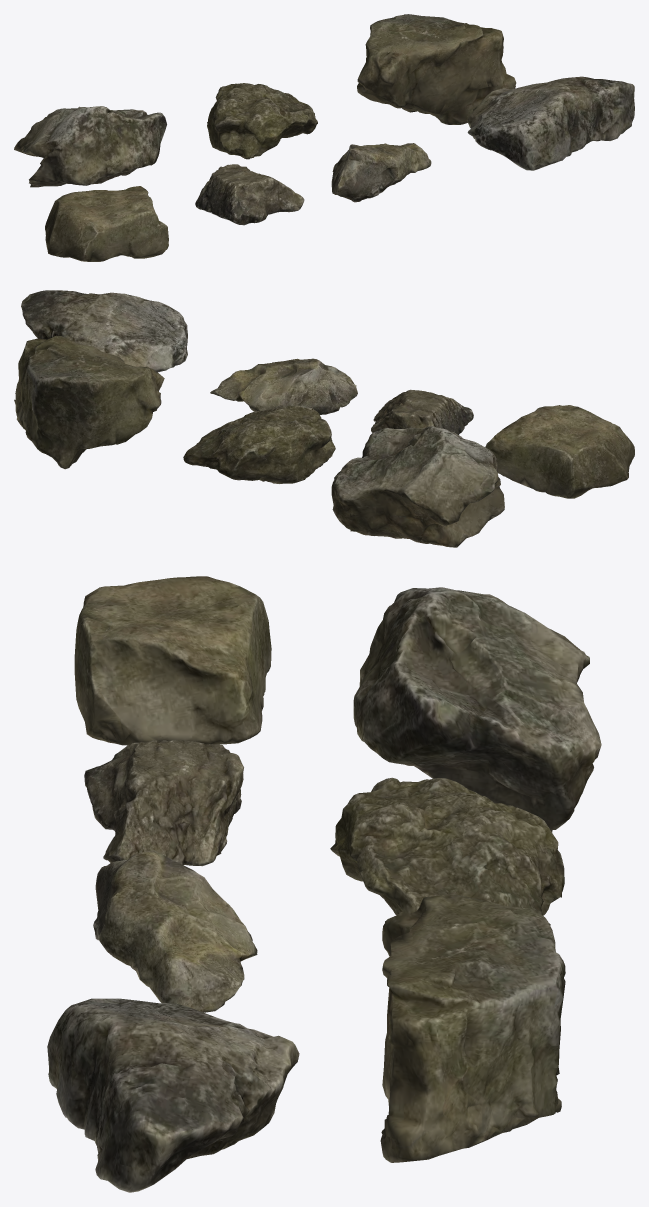
The model's file is rock_moss_set_02.glb.
The picture shows the model from 3 angles, top to bottom: view 1: azimuth 30°, elevation 25°; view 2: azimuth 150°, elevation 25°; view 3: azimuth 270°, elevation 25°; orthographic projection. The views are drawn at different scales.
Parts seen in each view (by area): view 1: rock_moss_set_02_rock13, rock_moss_set_02_rock10, rock_moss_set_02_rock11, rock_moss_set_02_rock07, rock_moss_set_02_rock12, rock_moss_set_02_rock08, rock_moss_set_02_rock09; view 2: rock_moss_set_02_rock11, rock_moss_set_02_rock13, rock_moss_set_02_rock07, rock_moss_set_02_rock10, rock_moss_set_02_rock12, rock_moss_set_02_rock09, rock_moss_set_02_rock08; view 3: rock_moss_set_02_rock13, rock_moss_set_02_rock11, rock_moss_set_02_rock10, rock_moss_set_02_rock07, rock_moss_set_02_rock12, rock_moss_set_02_rock09, rock_moss_set_02_rock08.
Part boxes in pixels (x1,y1,x2,y2): rock_moss_set_02_rock13: (357, 14, 516, 124); rock_moss_set_02_rock10: (467, 76, 634, 170); rock_moss_set_02_rock11: (14, 106, 166, 187); rock_moss_set_02_rock07: (45, 186, 168, 261); rock_moss_set_02_rock12: (207, 83, 317, 159); rock_moss_set_02_rock08: (195, 164, 304, 225); rock_moss_set_02_rock09: (331, 143, 431, 202); rock_moss_set_02_rock11: (331, 426, 504, 547); rock_moss_set_02_rock13: (14, 336, 164, 469); rock_moss_set_02_rock07: (485, 405, 634, 498); rock_moss_set_02_rock10: (21, 290, 187, 372); rock_moss_set_02_rock12: (183, 405, 335, 483); rock_moss_set_02_rock09: (210, 358, 357, 414); rock_moss_set_02_rock08: (371, 389, 473, 434); rock_moss_set_02_rock13: (380, 894, 565, 1162); rock_moss_set_02_rock11: (353, 587, 601, 832); rock_moss_set_02_rock10: (47, 998, 299, 1192); rock_moss_set_02_rock07: (74, 576, 271, 745); rock_moss_set_02_rock12: (330, 777, 564, 925); rock_moss_set_02_rock09: (93, 850, 257, 1012); rock_moss_set_02_rock08: (84, 740, 243, 866).
Size of the model in its own units: 8.28 by 1.37 by 3.41.
Materials: 1 (1 with a texture image).
